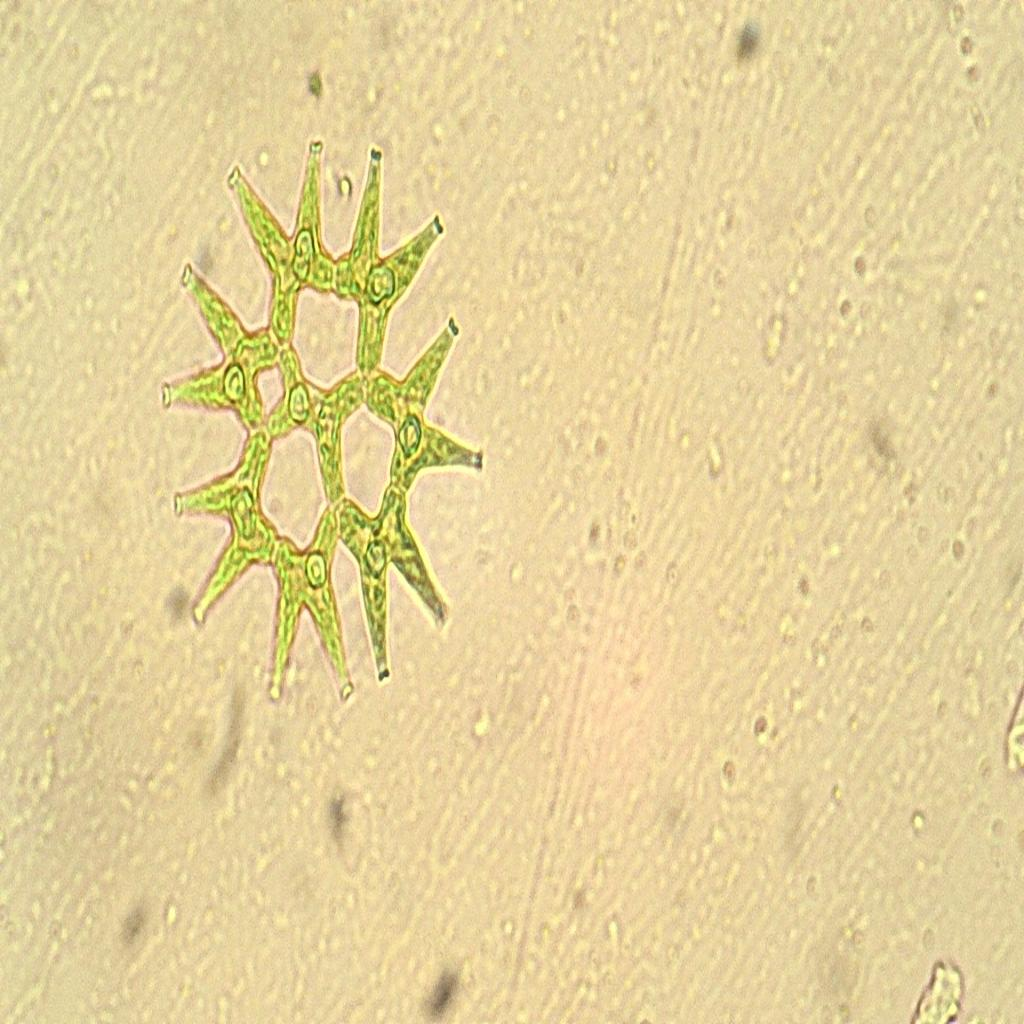Pediastrum_1T: (148, 121, 503, 737)
